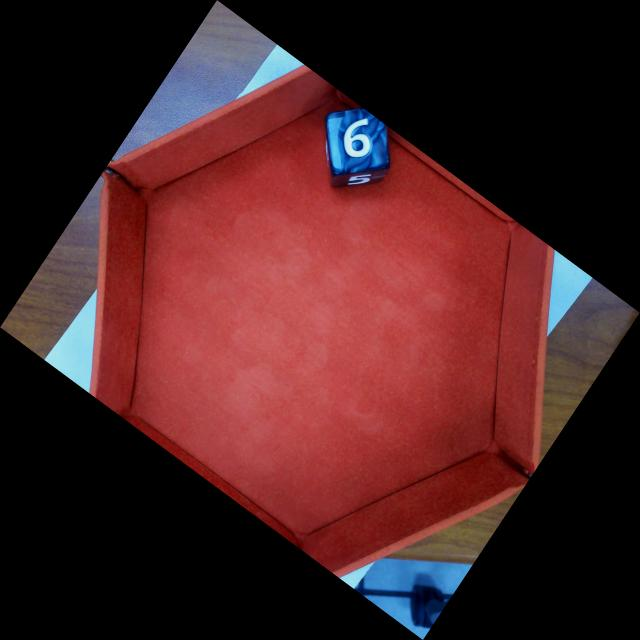dice: (333, 109, 385, 170)
